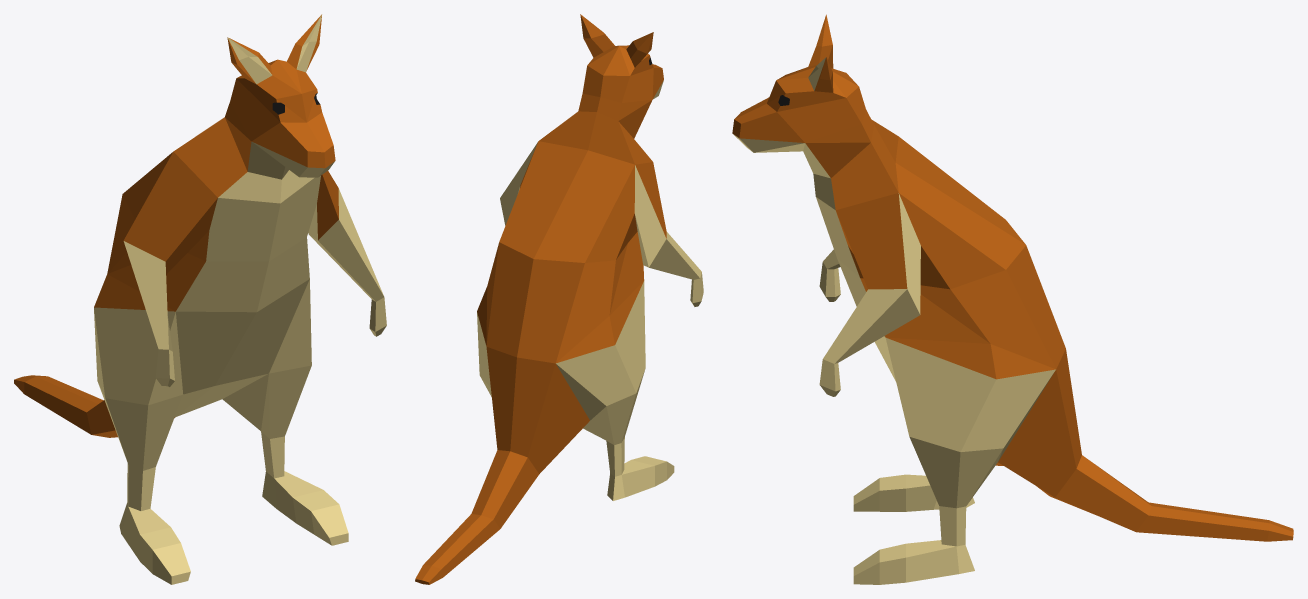
File: Kengooru_V1.fbx
3 renders of one model, left to right at view 1: azimuth 30°, elevation 25°; view 2: azimuth 150°, elevation 25°; view 3: azimuth 270°, elevation 25°, orthographic. The views are drawn at different scales.
Parts seen in each view (by area): view 1: Cube; view 2: Cube; view 3: Cube.
Boxes of the visible parts, x1,y1,x2,y2 form: Cube: [14, 14, 386, 584]; Cube: [415, 14, 703, 584]; Cube: [732, 14, 1293, 584].
Bounding box in the file's own units: 234 × 536 × 536.
